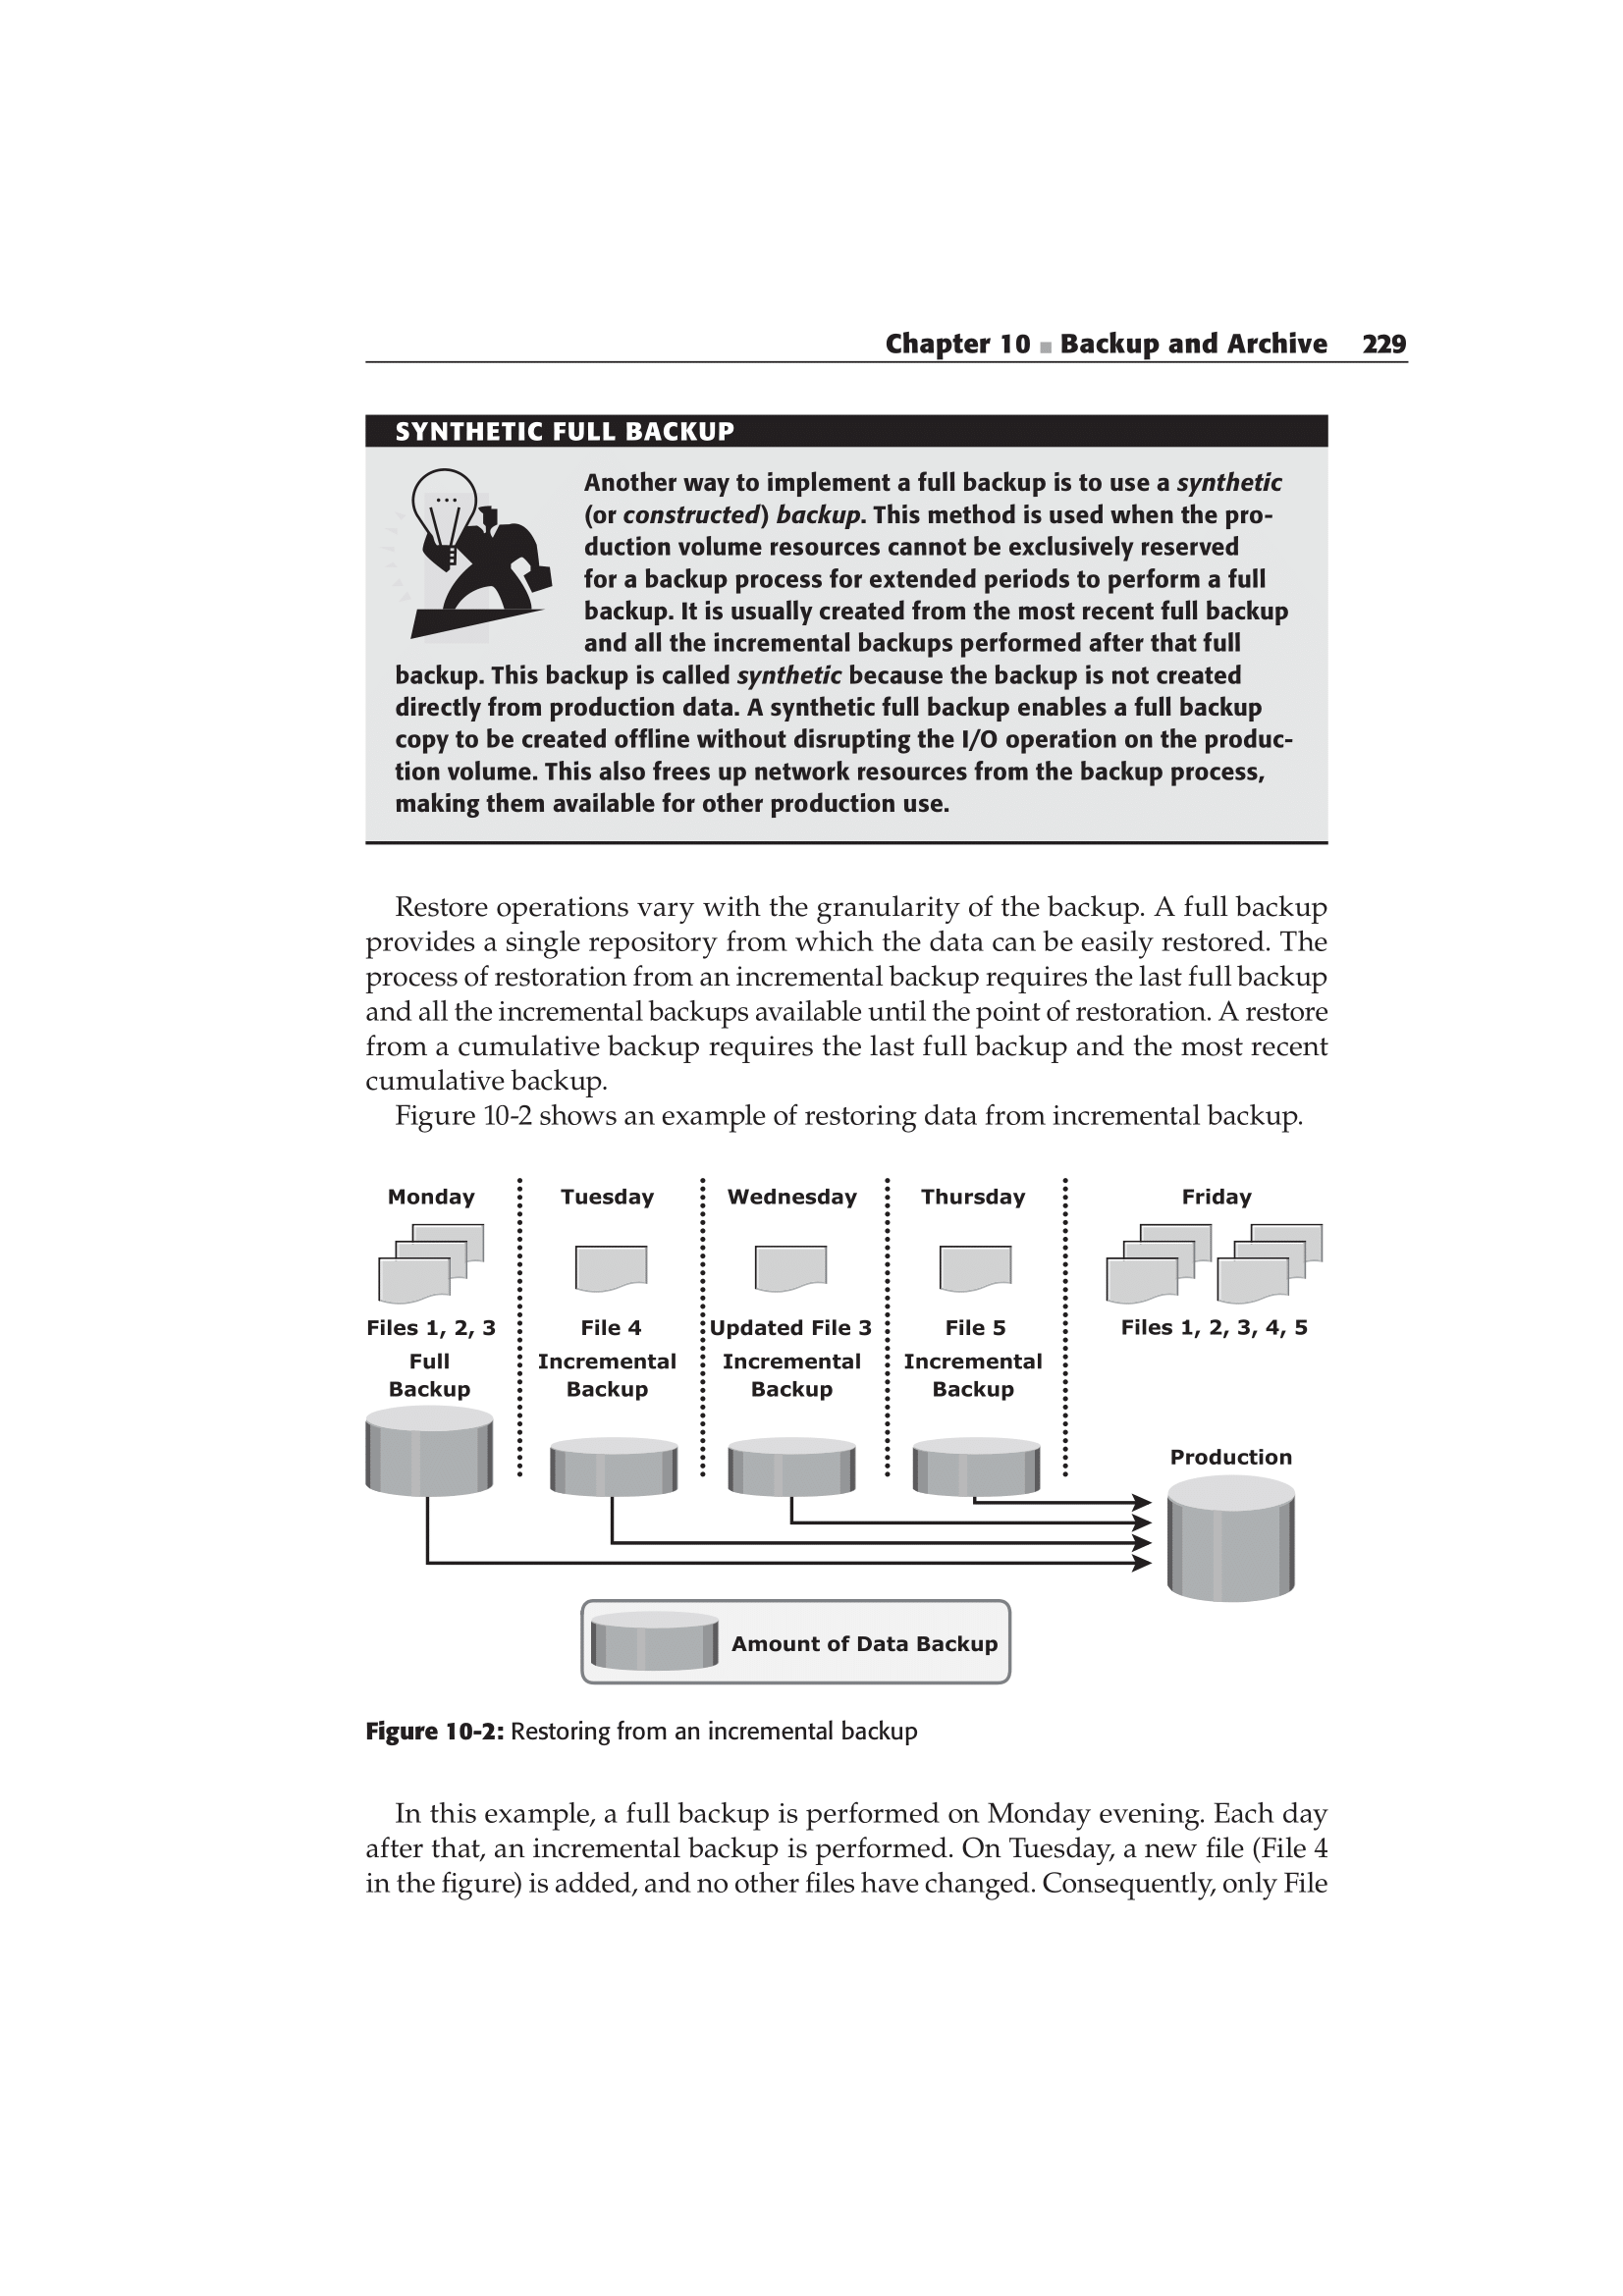Image: (297, 1173, 1463, 1689), (385, 469, 574, 649)
Paragraph: (318, 879, 1391, 1094), (365, 662, 1286, 837), (281, 1794, 1395, 1931), (587, 465, 1303, 653), (876, 256, 1479, 372), (285, 1701, 1086, 1768), (378, 393, 783, 448)
